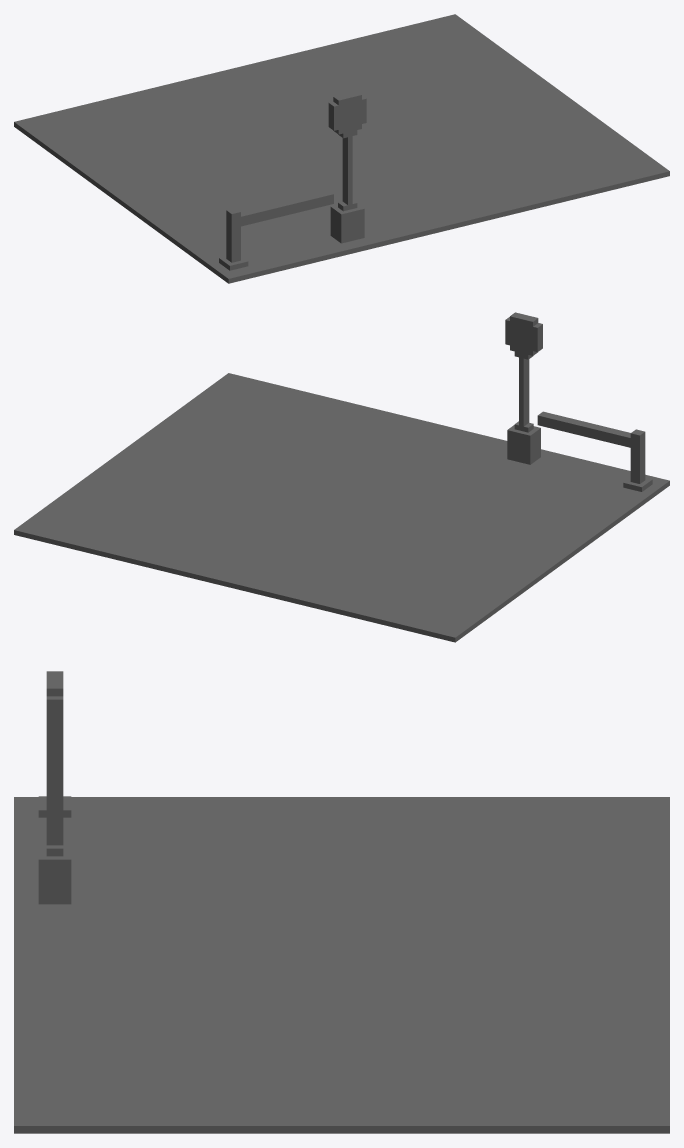
File: Parking.obj
The picture shows the model from 3 angles, top to bottom: view 1: azimuth 30°, elevation 25°; view 2: azimuth 150°, elevation 25°; view 3: azimuth 270°, elevation 25°; orthographic projection. The views are drawn at different scales.
Bounding box in the file's own units: 9.5 × 3 × 8.
1 material, 1 textured.
